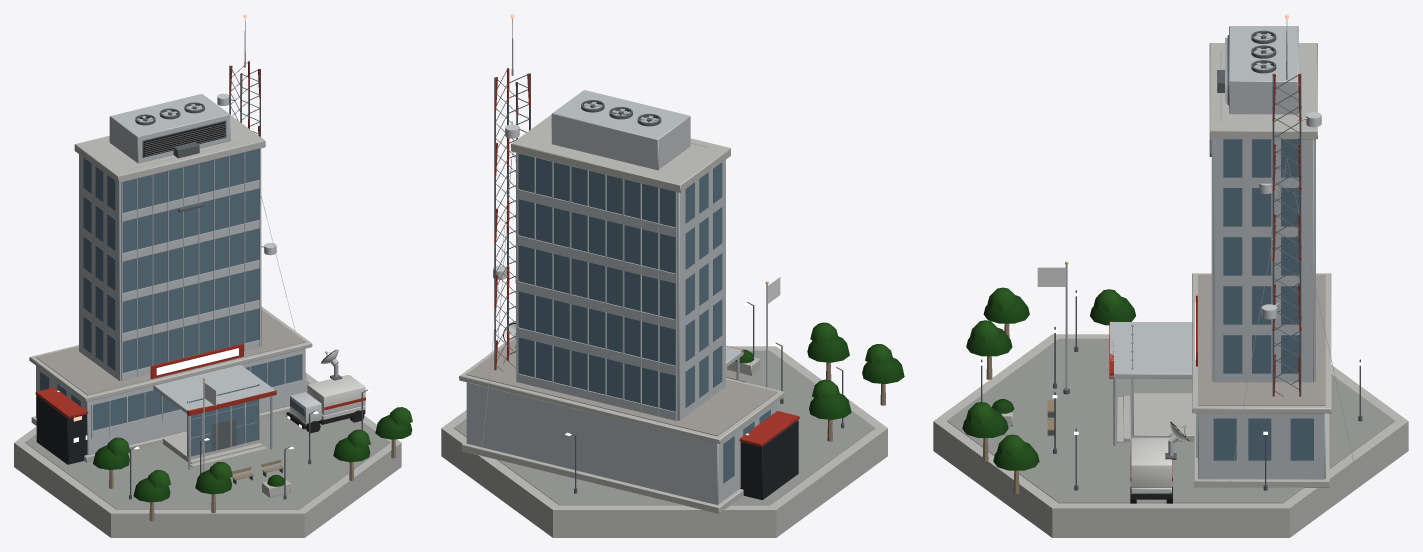
Rendered from tvStation.glb.
3 renders of one model, left to right at view 1: azimuth 30°, elevation 25°; view 2: azimuth 150°, elevation 25°; view 3: azimuth 270°, elevation 25°, orthographic. The views are drawn at different scales.
Parts seen in each view (by area): view 1: glass, cladding, wall_concrete, pavers, paint, leaf, gravel, steel_dark, metal, dark, wood, glow_warm; view 2: cladding, glass, wall_concrete, pavers, gravel, leaf, steel_dark, paint, metal; view 3: wall_concrete, cladding, pavers, glass, leaf, gravel, steel_dark, paint, metal, wood, banner.
Boxes of the visible parts, box(x1,y1,x2,y2) form: glass: box(40, 149, 304, 456); cladding: box(36, 94, 305, 464); wall_concrete: box(14, 115, 401, 537); pavers: box(25, 380, 390, 509); paint: box(35, 61, 365, 423); leaf: box(93, 407, 412, 502); gravel: box(35, 309, 305, 395); steel_dark: box(53, 61, 367, 499); metal: box(130, 18, 338, 471); dark: box(138, 109, 365, 433); wood: box(109, 439, 396, 521); glow_warm: box(57, 348, 371, 449); cladding: box(466, 90, 798, 504); glass: box(518, 153, 770, 483); wall_concrete: box(441, 114, 887, 537); pavers: box(454, 350, 874, 505); gravel: box(466, 338, 777, 436); leaf: box(735, 322, 904, 419); steel_dark: box(494, 68, 844, 493); paint: box(493, 68, 799, 446); metal: box(480, 18, 767, 460); wall_concrete: box(933, 43, 1408, 537); cladding: box(1110, 26, 1325, 479); pavers: box(947, 338, 1394, 503); glass: box(1132, 139, 1313, 460); leaf: box(962, 287, 1135, 470); gravel: box(1198, 274, 1325, 405); steel_dark: box(981, 30, 1362, 490); paint: box(1109, 74, 1321, 493); metal: box(1065, 19, 1354, 488); wood: box(982, 323, 1054, 494); banner: box(1037, 267, 1066, 286).
Size of the model in its own units: 21.3 by 27.8 by 24.6.
